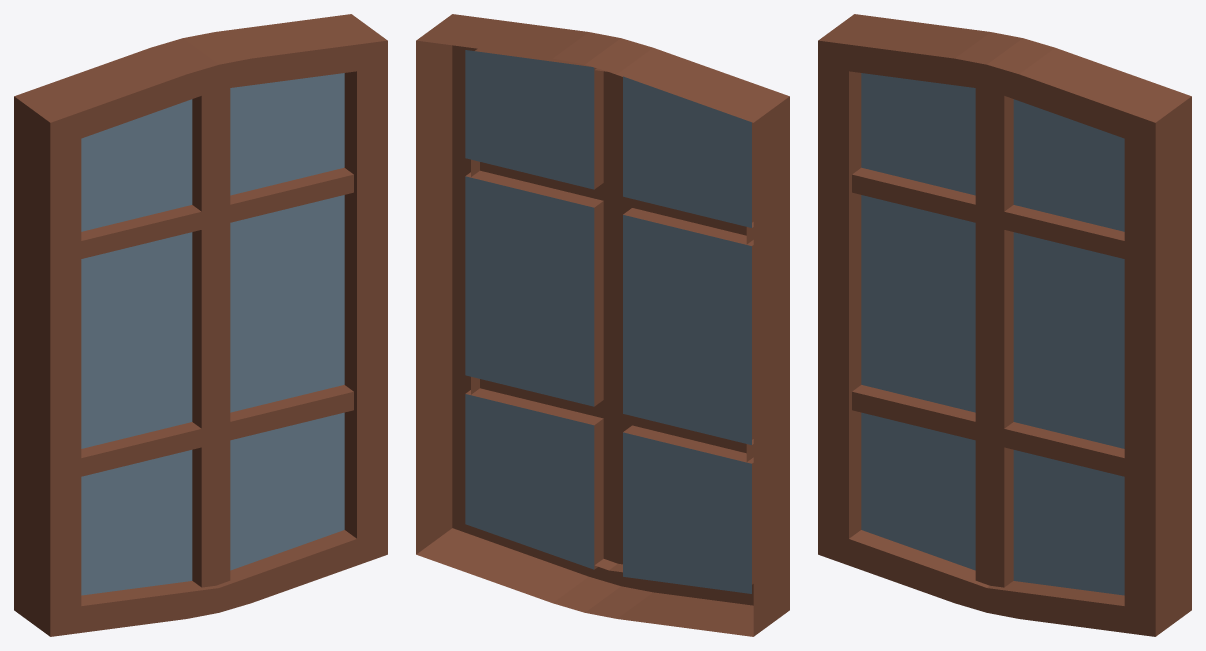
File: Window_Double.glb
3 renders of one model, left to right at view 1: azimuth 30°, elevation 25°; view 2: azimuth 150°, elevation 25°; view 3: azimuth 330°, elevation 25°, orthographic.
Parts seen in each view (by area): view 1: Window_Double; view 2: Window_Double; view 3: Window_Double.
Part boxes in pixels (<box>): Window_Double: <box>14,14,387,636</box>; Window_Double: <box>416,14,789,636</box>; Window_Double: <box>818,14,1191,636</box>.
Size of the model in its own units: 0.3027 by 0.47 by 0.0564.
Materials: 1 (1 with a texture image).
